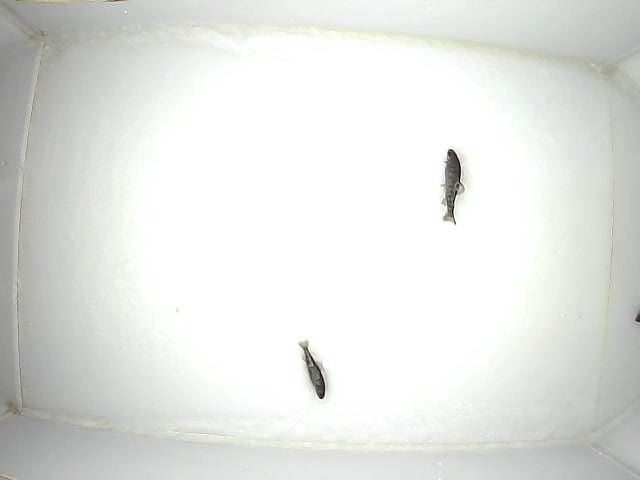fish: (437, 146, 468, 226), (298, 339, 328, 402)
